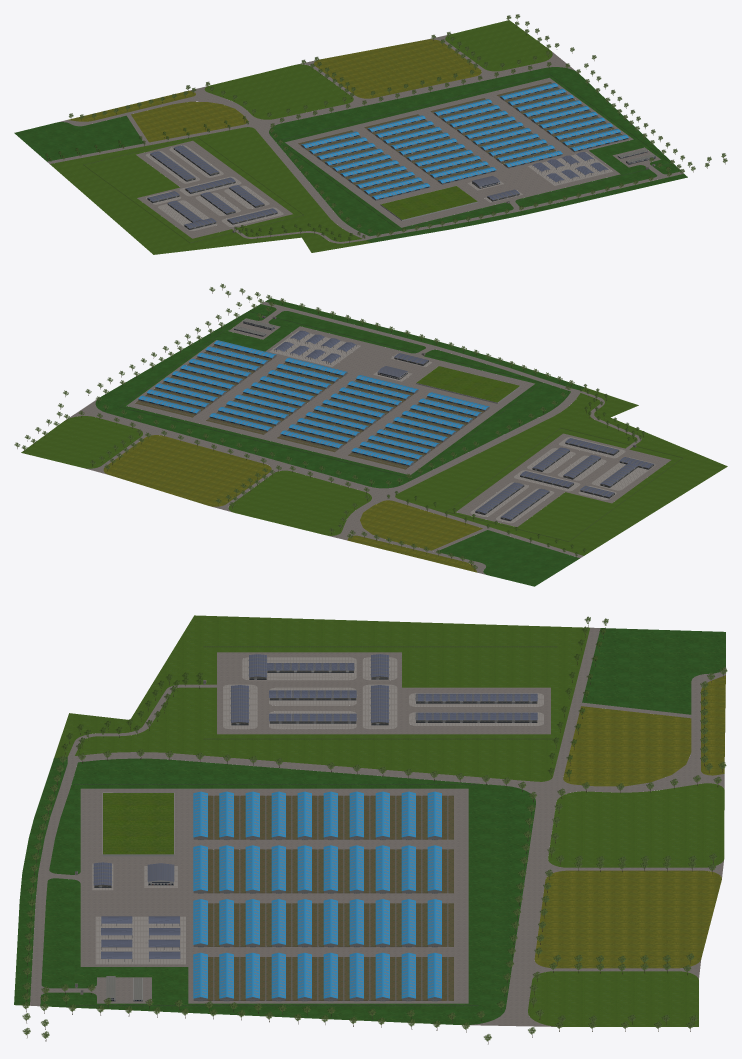
3 renders of one model, top to bottom at view 1: azimuth 30°, elevation 25°; view 2: azimuth 150°, elevation 25°; view 3: azimuth 270°, elevation 25°, orthographic. The views are drawn at different scales.
Visible parts, largest first — view 1: JGC_CD_1, 1YZQ_DL_1, 1YZQ_CD_1, 1YZQ_CD_3, 1YZQ_CD_2, 1YZQ_HDQ_1, JGC_DL_1, JGC_CD_2, JGC_CD_3, JGC_PD_1, ????1???1, Rectangle130 (+4 smaller); view 2: JGC_CD_1, 1YZQ_DL_1, 1YZQ_CD_1, 1YZQ_CD_3, 1YZQ_CD_2, 1YZQ_HDQ_1, JGC_DL_1, JGC_CD_2, JGC_CD_3, JGC_PD_1, ????1???1, Rectangle130 (+4 smaller); view 3: JGC_CD_1, 1YZQ_DL_1, 1YZQ_CD_1, 1YZQ_CD_3, 1YZQ_HDQ_1, 1YZQ_CD_2, JGC_DL_1, JGC_CD_2, JGC_CD_3, JGC_PD_1, ????1???1, Rectangle130 (+50 smaller).
Part boxes in pixels (x1,y1,x2,y2): JGC_CD_1: [50, 127, 371, 254]; 1YZQ_DL_1: [58, 35, 683, 239]; 1YZQ_CD_1: [269, 67, 687, 242]; 1YZQ_CD_3: [204, 20, 552, 119]; 1YZQ_CD_2: [68, 39, 481, 121]; 1YZQ_HDQ_1: [298, 82, 622, 197]; JGC_DL_1: [47, 114, 365, 243]; JGC_CD_2: [14, 115, 143, 161]; JGC_CD_3: [131, 101, 247, 142]; JGC_PD_1: [145, 145, 283, 230]; ????1???1: [380, 186, 477, 220]; Rectangle130: [467, 152, 612, 202]; JGC_CD_1: [395, 387, 727, 555]; 1YZQ_DL_1: [68, 302, 581, 574]; 1YZQ_CD_1: [95, 298, 584, 488]; 1YZQ_CD_3: [21, 416, 371, 535]; 1YZQ_CD_2: [103, 435, 477, 572]; 1YZQ_HDQ_1: [135, 345, 484, 469]; JGC_DL_1: [383, 391, 670, 558]; JGC_CD_2: [439, 530, 579, 586]; JGC_CD_3: [360, 500, 482, 550]; JGC_PD_1: [470, 437, 655, 523]; ????1???1: [416, 366, 520, 403]; Rectangle130: [269, 330, 431, 381]; JGC_CD_1: [54, 615, 589, 781]; 1YZQ_DL_1: [30, 667, 725, 1026]; 1YZQ_CD_1: [14, 757, 535, 1024]; 1YZQ_CD_3: [528, 783, 724, 1026]; 1YZQ_HDQ_1: [207, 795, 453, 1000]; 1YZQ_CD_2: [534, 675, 725, 968]; JGC_DL_1: [68, 627, 691, 784]; JGC_CD_2: [582, 628, 725, 714]; JGC_CD_3: [563, 706, 691, 786]; JGC_PD_1: [223, 657, 543, 729]; ????1???1: [102, 792, 174, 856]; Rectangle130: [92, 863, 185, 964].
Size of the model in its own units: 1765 by 22.53 by 1235.
42 materials, 42 textured.
